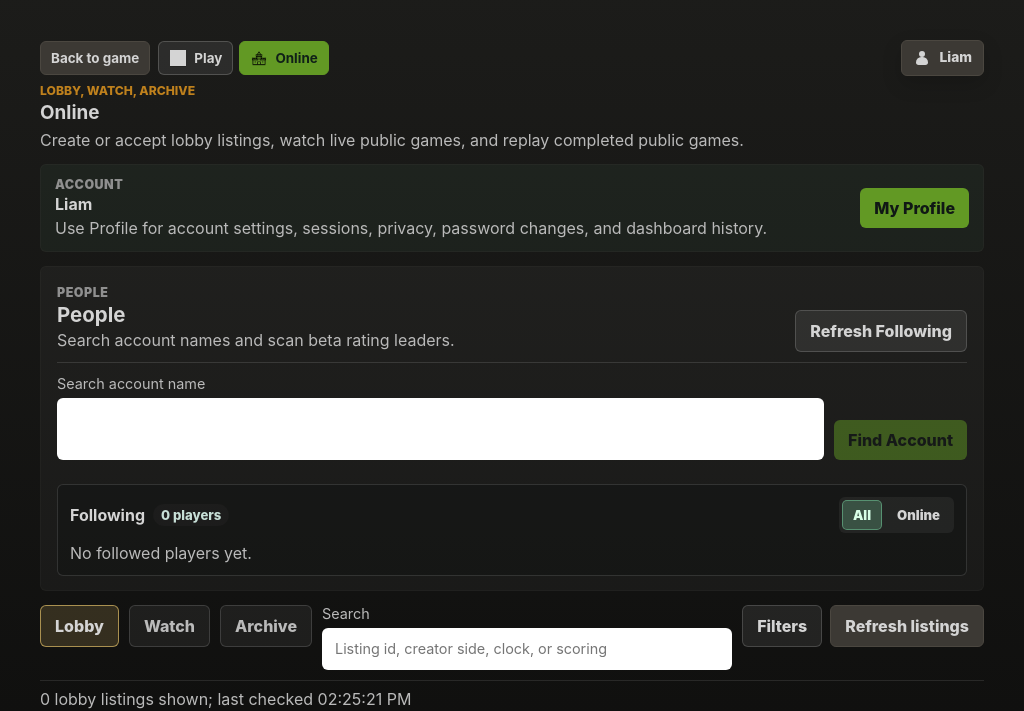
Test case: OnlineGameBrowser › preserves trusted follow rejection messages
Type "Samir" into the field labelled "Search account name" at (440, 429), box [57,398,824,460]
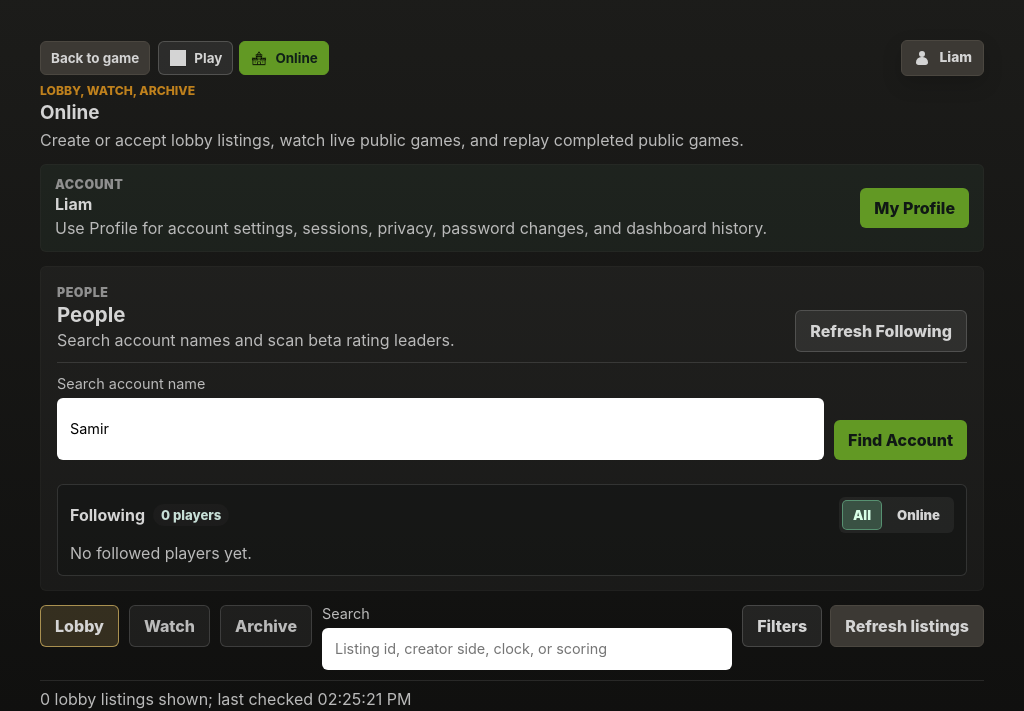
Click the button "Find Account" at (900, 440), box [834,420,967,460]
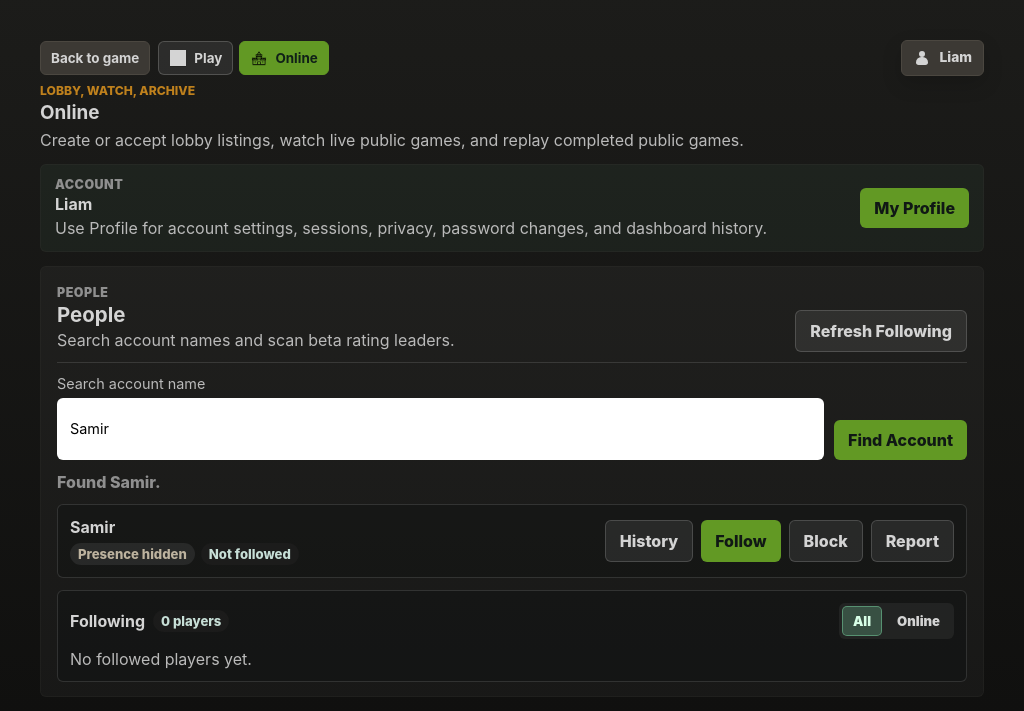
Click the button named "Follow Samir" at (741, 541), box [701,520,781,562]
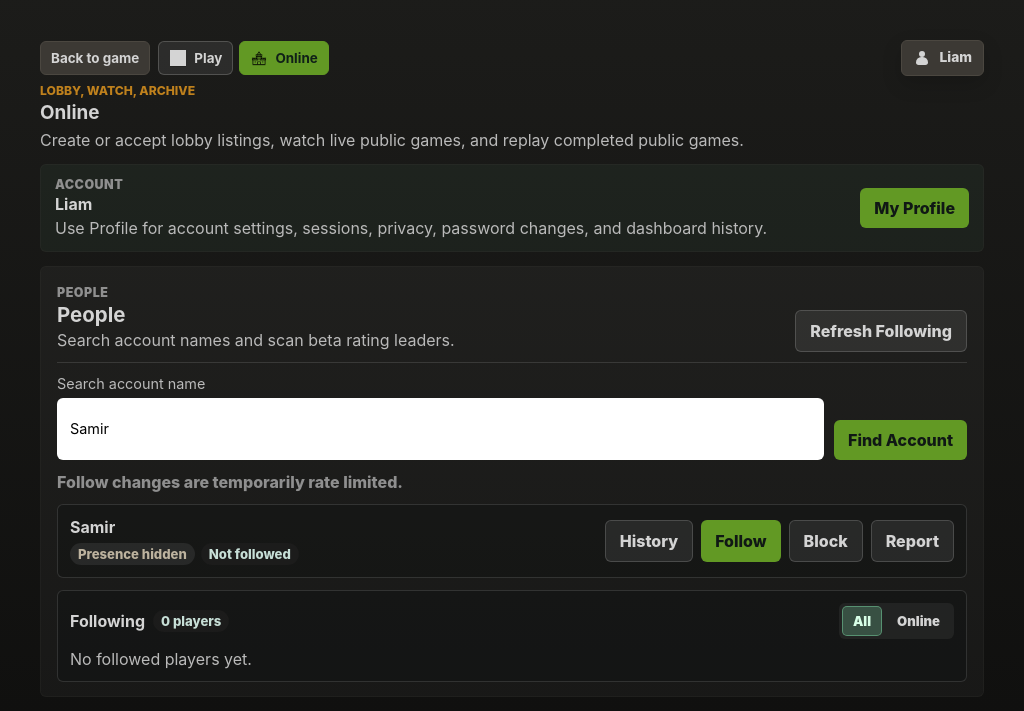
Check: the text "Follow changes are temporarily rate limited." is shown, box [57,472,403,492]
